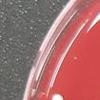white: (48, 91, 66, 100)
